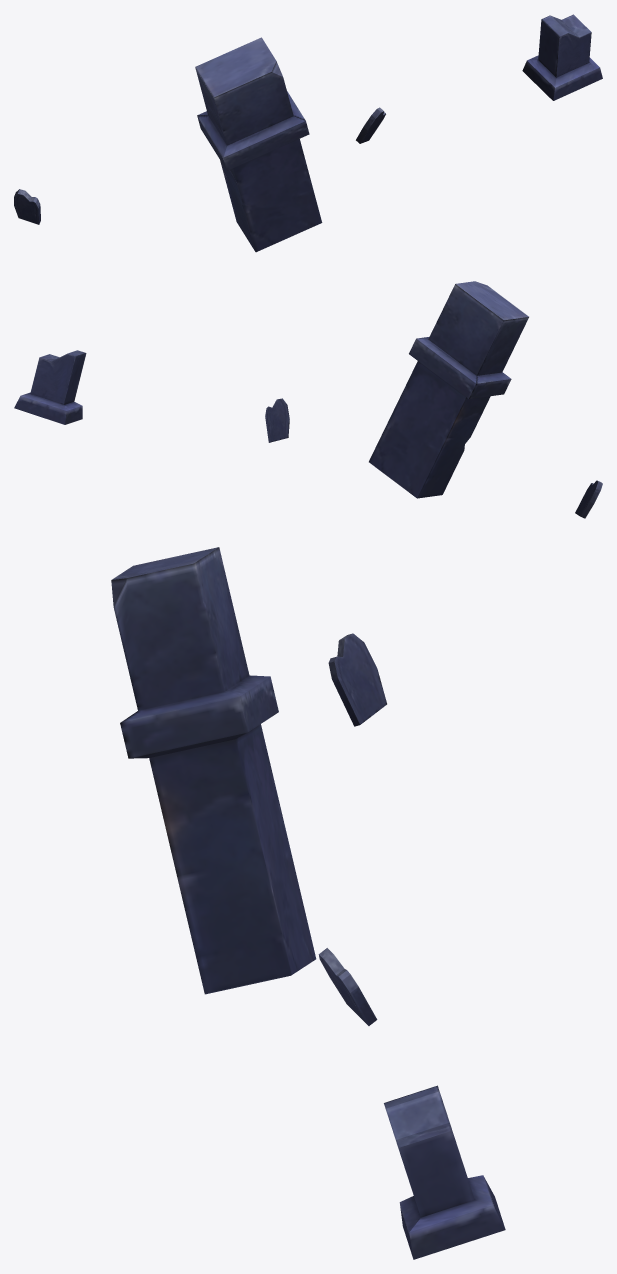
File: Area07_13.fbx
The picture shows the model from 3 angles, top to bottom: view 1: azimuth 30°, elevation 25°; view 2: azimuth 150°, elevation 25°; view 3: azimuth 270°, elevation 25°; orthographic projection. The views are drawn at different scales.
Parts seen in each view (by area): view 1: Area07_13; view 2: Area07_13; view 3: Area07_13.
Part boxes in pixels (bbox=[...]): Area07_13: bbox=[14, 14, 602, 252]; Area07_13: bbox=[14, 281, 602, 518]; Area07_13: bbox=[111, 547, 505, 1259].
Bounding box in the file's own units: 4245 × 1500 × 1305.
